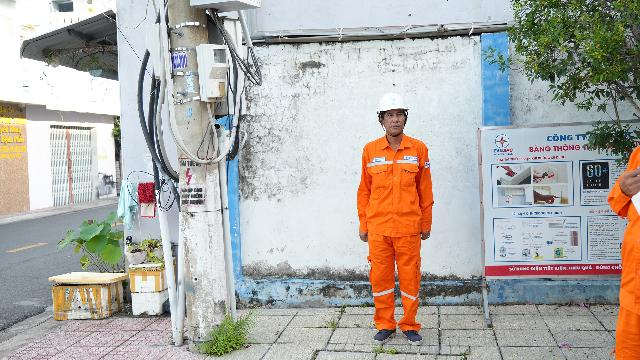helmet: (370, 91, 413, 119)
shoes: (399, 317, 428, 351), (370, 319, 397, 350)
